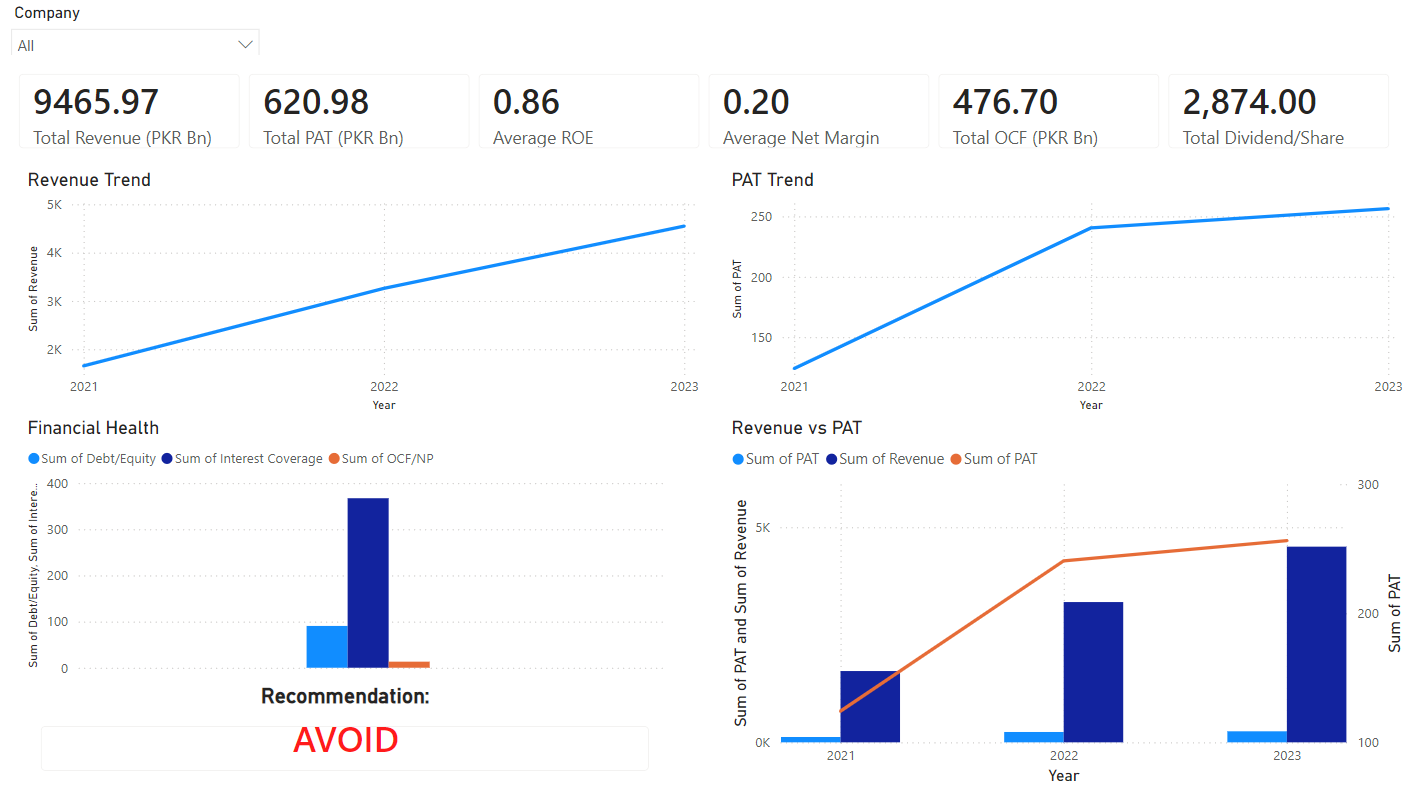

The dashboard page shown, as its layout file describes it:
{"tool":"powerbi","page":{"name":"Company Performance","canvas":[1280,720],"ordinal":1},"visuals":[{"type":"slicer","fields":{"Values":["FactFinancials.Company"]},"box":[0,0,245.7,154.3],"z":0},{"type":"cardVisual","fields":{"Data":["FactFinancials.Total Revenue","FactFinancials.Total PAT","FactFinancials.Average ROE","FactFinancials.Average Net Margin","FactFinancials.Total OCF","Sum(FactFinancials.Dividend/Share)"]},"box":[0,51.4,1280,102.9],"z":1000},{"type":"lineChart","title":"Revenue Trend","fields":{"Category":["FactFinancials.Year"],"Y":["Sum(FactFinancials.Revenue)"]},"box":[20,154.3,620,225.7],"z":2000},{"type":"lineChart","title":"PAT Trend","fields":{"Category":["FactFinancials.Year"],"Y":["Sum(FactFinancials.PAT)"]},"box":[660,154.3,620,225.7],"z":3000},{"type":"lineClusteredColumnComboChart","title":"Revenue vs PAT","fields":{"Category":["FactFinancials.Year"],"Y":["Sum(FactFinancials.PAT)","Sum(FactFinancials.Revenue)"],"Y2":["Sum(FactFinancials.PAT)"]},"box":[660,380,620,340],"z":4000},{"type":"clusteredColumnChart","title":"Financial Health","fields":{"Y":["Sum(FactFinancials.Debt/Equity)","Sum(FactFinancials.Interest Coverage)","Sum(FactFinancials.OCF/NP)"]},"box":[20,380,588.6,242.9],"z":5000},{"type":"cardVisual","title":"Recommendation:","fields":{"Data":["Min(FactFinancials.Decision)"]},"box":[20,622.9,587.1,97.1],"z":6000}]}

Visuals, with their boxes in screenshot pixels (x1, y1, x2, y2), scaled from the page's 1280x720 canvas onto the 1406x789 screenshot:
slicer - FactFinancials.Company: 0/0/270/169
cardVisual - FactFinancials.Total Revenue x FactFinancials.Total PAT: 0/56/1405/169
"Revenue Trend" lineChart: 22/169/703/416
"PAT Trend" lineChart: 725/169/1405/416
"Revenue vs PAT" lineClusteredColumnComboChart: 725/416/1405/788
"Financial Health" clusteredColumnChart: 22/416/669/683
"Recommendation:" cardVisual: 22/683/667/788
